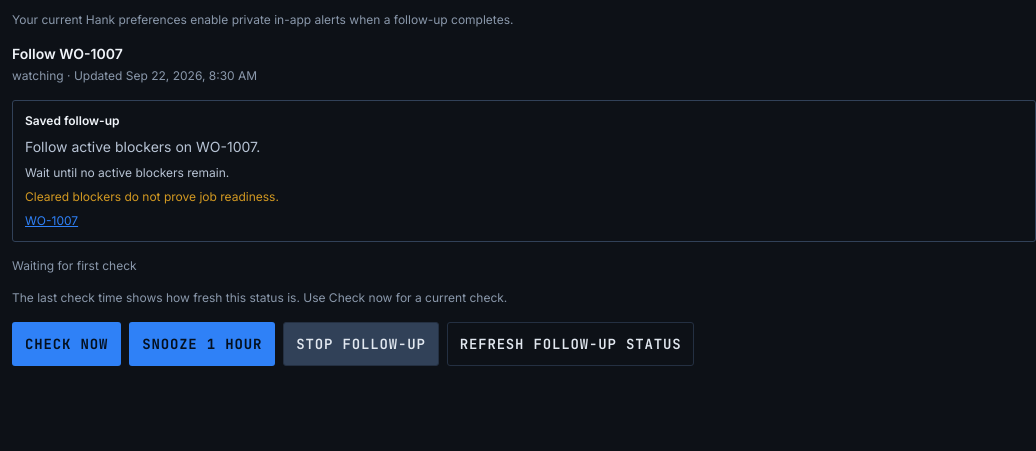
Test: HankWatchWorkflow › requires refresh after an uncertain command, recovering a completed result without checking again
Click the button "Check now". click: (67, 344)
box: [12, 322, 121, 366]
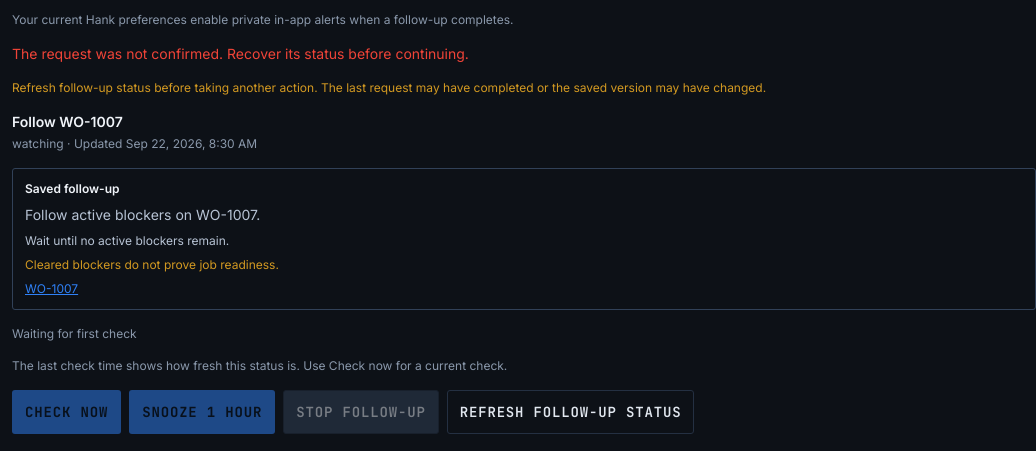
Result: the text "Refresh follow-up status before taking another action" is shown at [12, 80, 766, 95]
Result: the button "Check now" is disabled at [12, 390, 121, 434]
Result: the button "Stop follow-up" is disabled at [283, 390, 439, 434]
Click the button "Refresh follow-up status". click: (571, 412)
box: [447, 390, 694, 434]
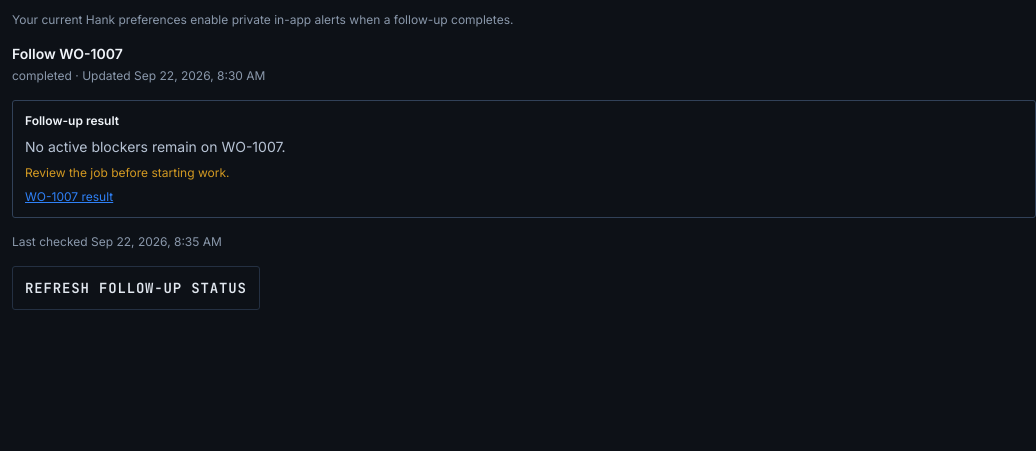
Result: the text "No active blockers remain on WO-1007." is shown at [25, 138, 286, 155]
